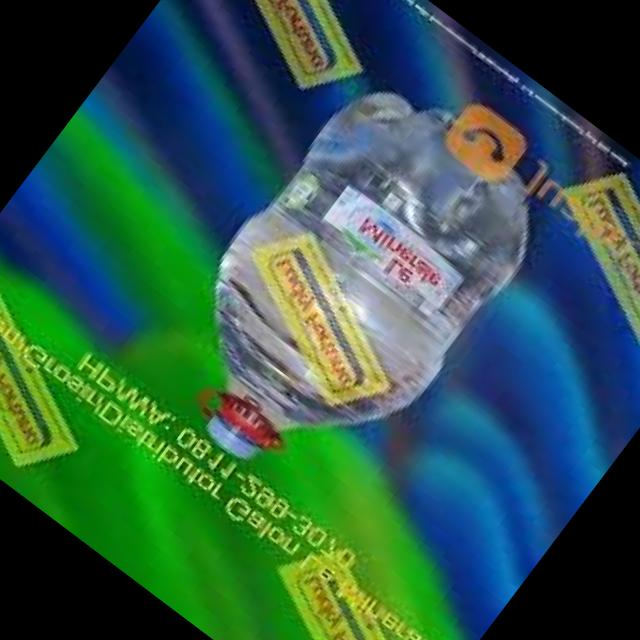Galon: (123, 46, 574, 528)
